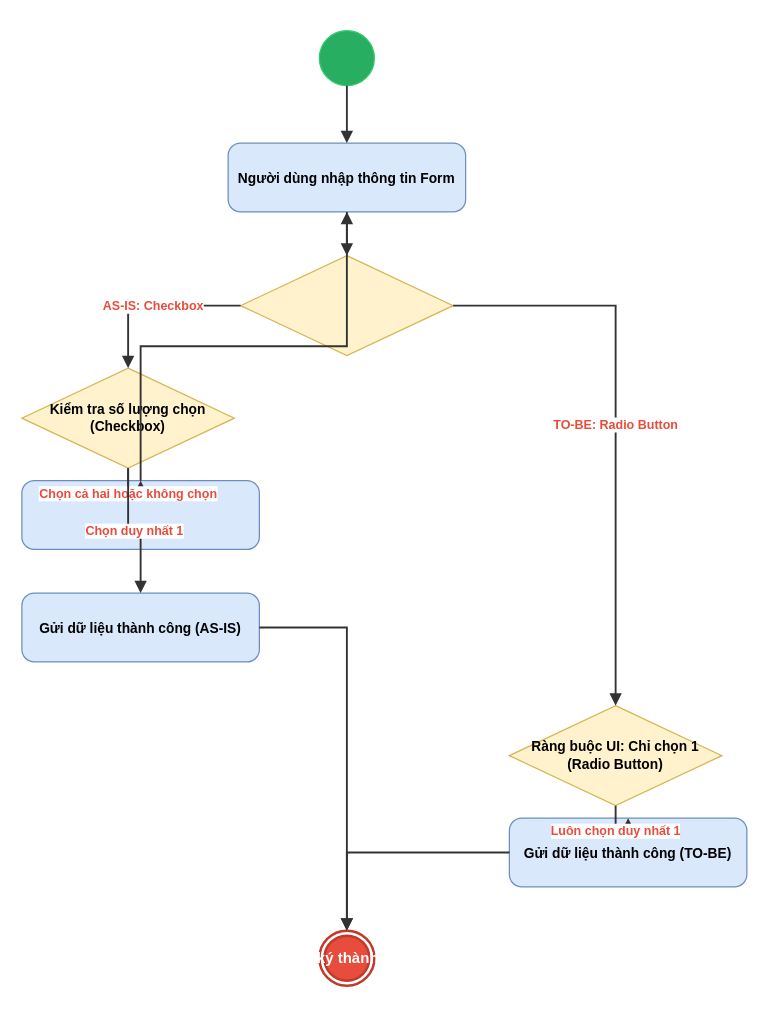
The diagram is 769 pixels wide and 1009 high, and some of its shapes have lost their labels. The box of each missing label's shape, as (x1, y1, x2, y2) in pixels:
Báo lỗi dữ liệu / Sai lệch hồ sơ: (21, 479, 259, 549)
Bắt đầu đăng ký: (318, 29, 374, 86)
Chọn Giới tính: (239, 254, 453, 356)
